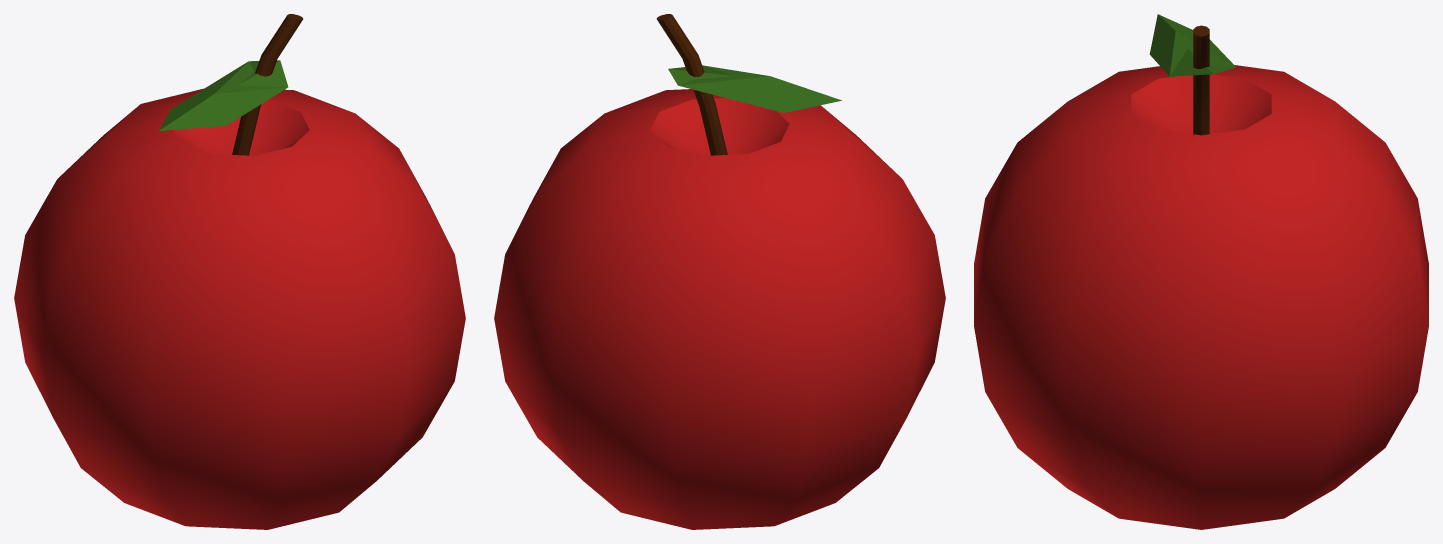
The model's file is Apple.fbx.
3 views of the same model, side by side, from view 1: azimuth 30°, elevation 25°; view 2: azimuth 150°, elevation 25°; view 3: azimuth 270°, elevation 25° (orthographic). The views are drawn at different scales.
Visible parts, largest first — view 1: pSphere2; view 2: pSphere2; view 3: pSphere2.
Boxes of the visible parts, bbox=[...] form: pSphere2: bbox=[14, 14, 465, 529]; pSphere2: bbox=[494, 14, 945, 529]; pSphere2: bbox=[974, 14, 1428, 529].
Bounding box in the file's own units: 2 × 2.25 × 1.9.
